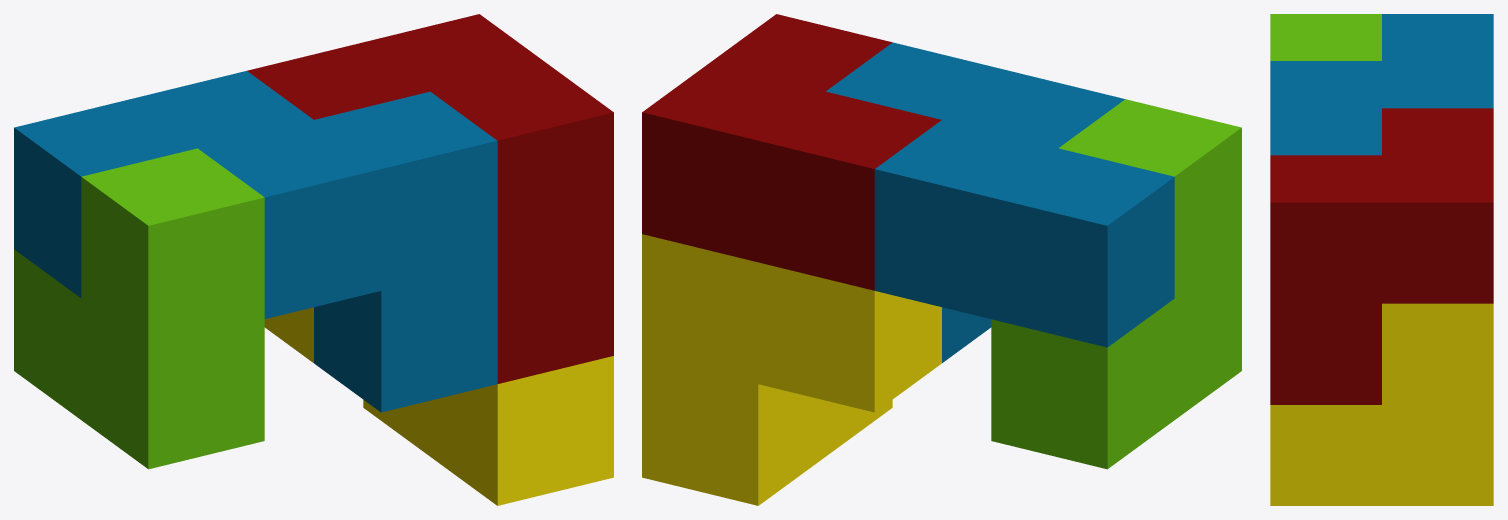
3 views of the same model, side by side, from view 1: azimuth 30°, elevation 25°; view 2: azimuth 150°, elevation 25°; view 3: azimuth 270°, elevation 25° (orthographic). The views are drawn at different scales.
Parts seen in each view (by area): view 1: mergedBlocks(Clone); view 2: mergedBlocks(Clone); view 3: mergedBlocks(Clone).
Part boxes in pixels (x1,y1,x2,y2): mergedBlocks(Clone): (14, 14, 613, 505); mergedBlocks(Clone): (642, 14, 1241, 505); mergedBlocks(Clone): (1270, 14, 1493, 505).
Size of the model in its own units: 4 by 3 by 2.
Materials: 4 (4 with a texture image).
